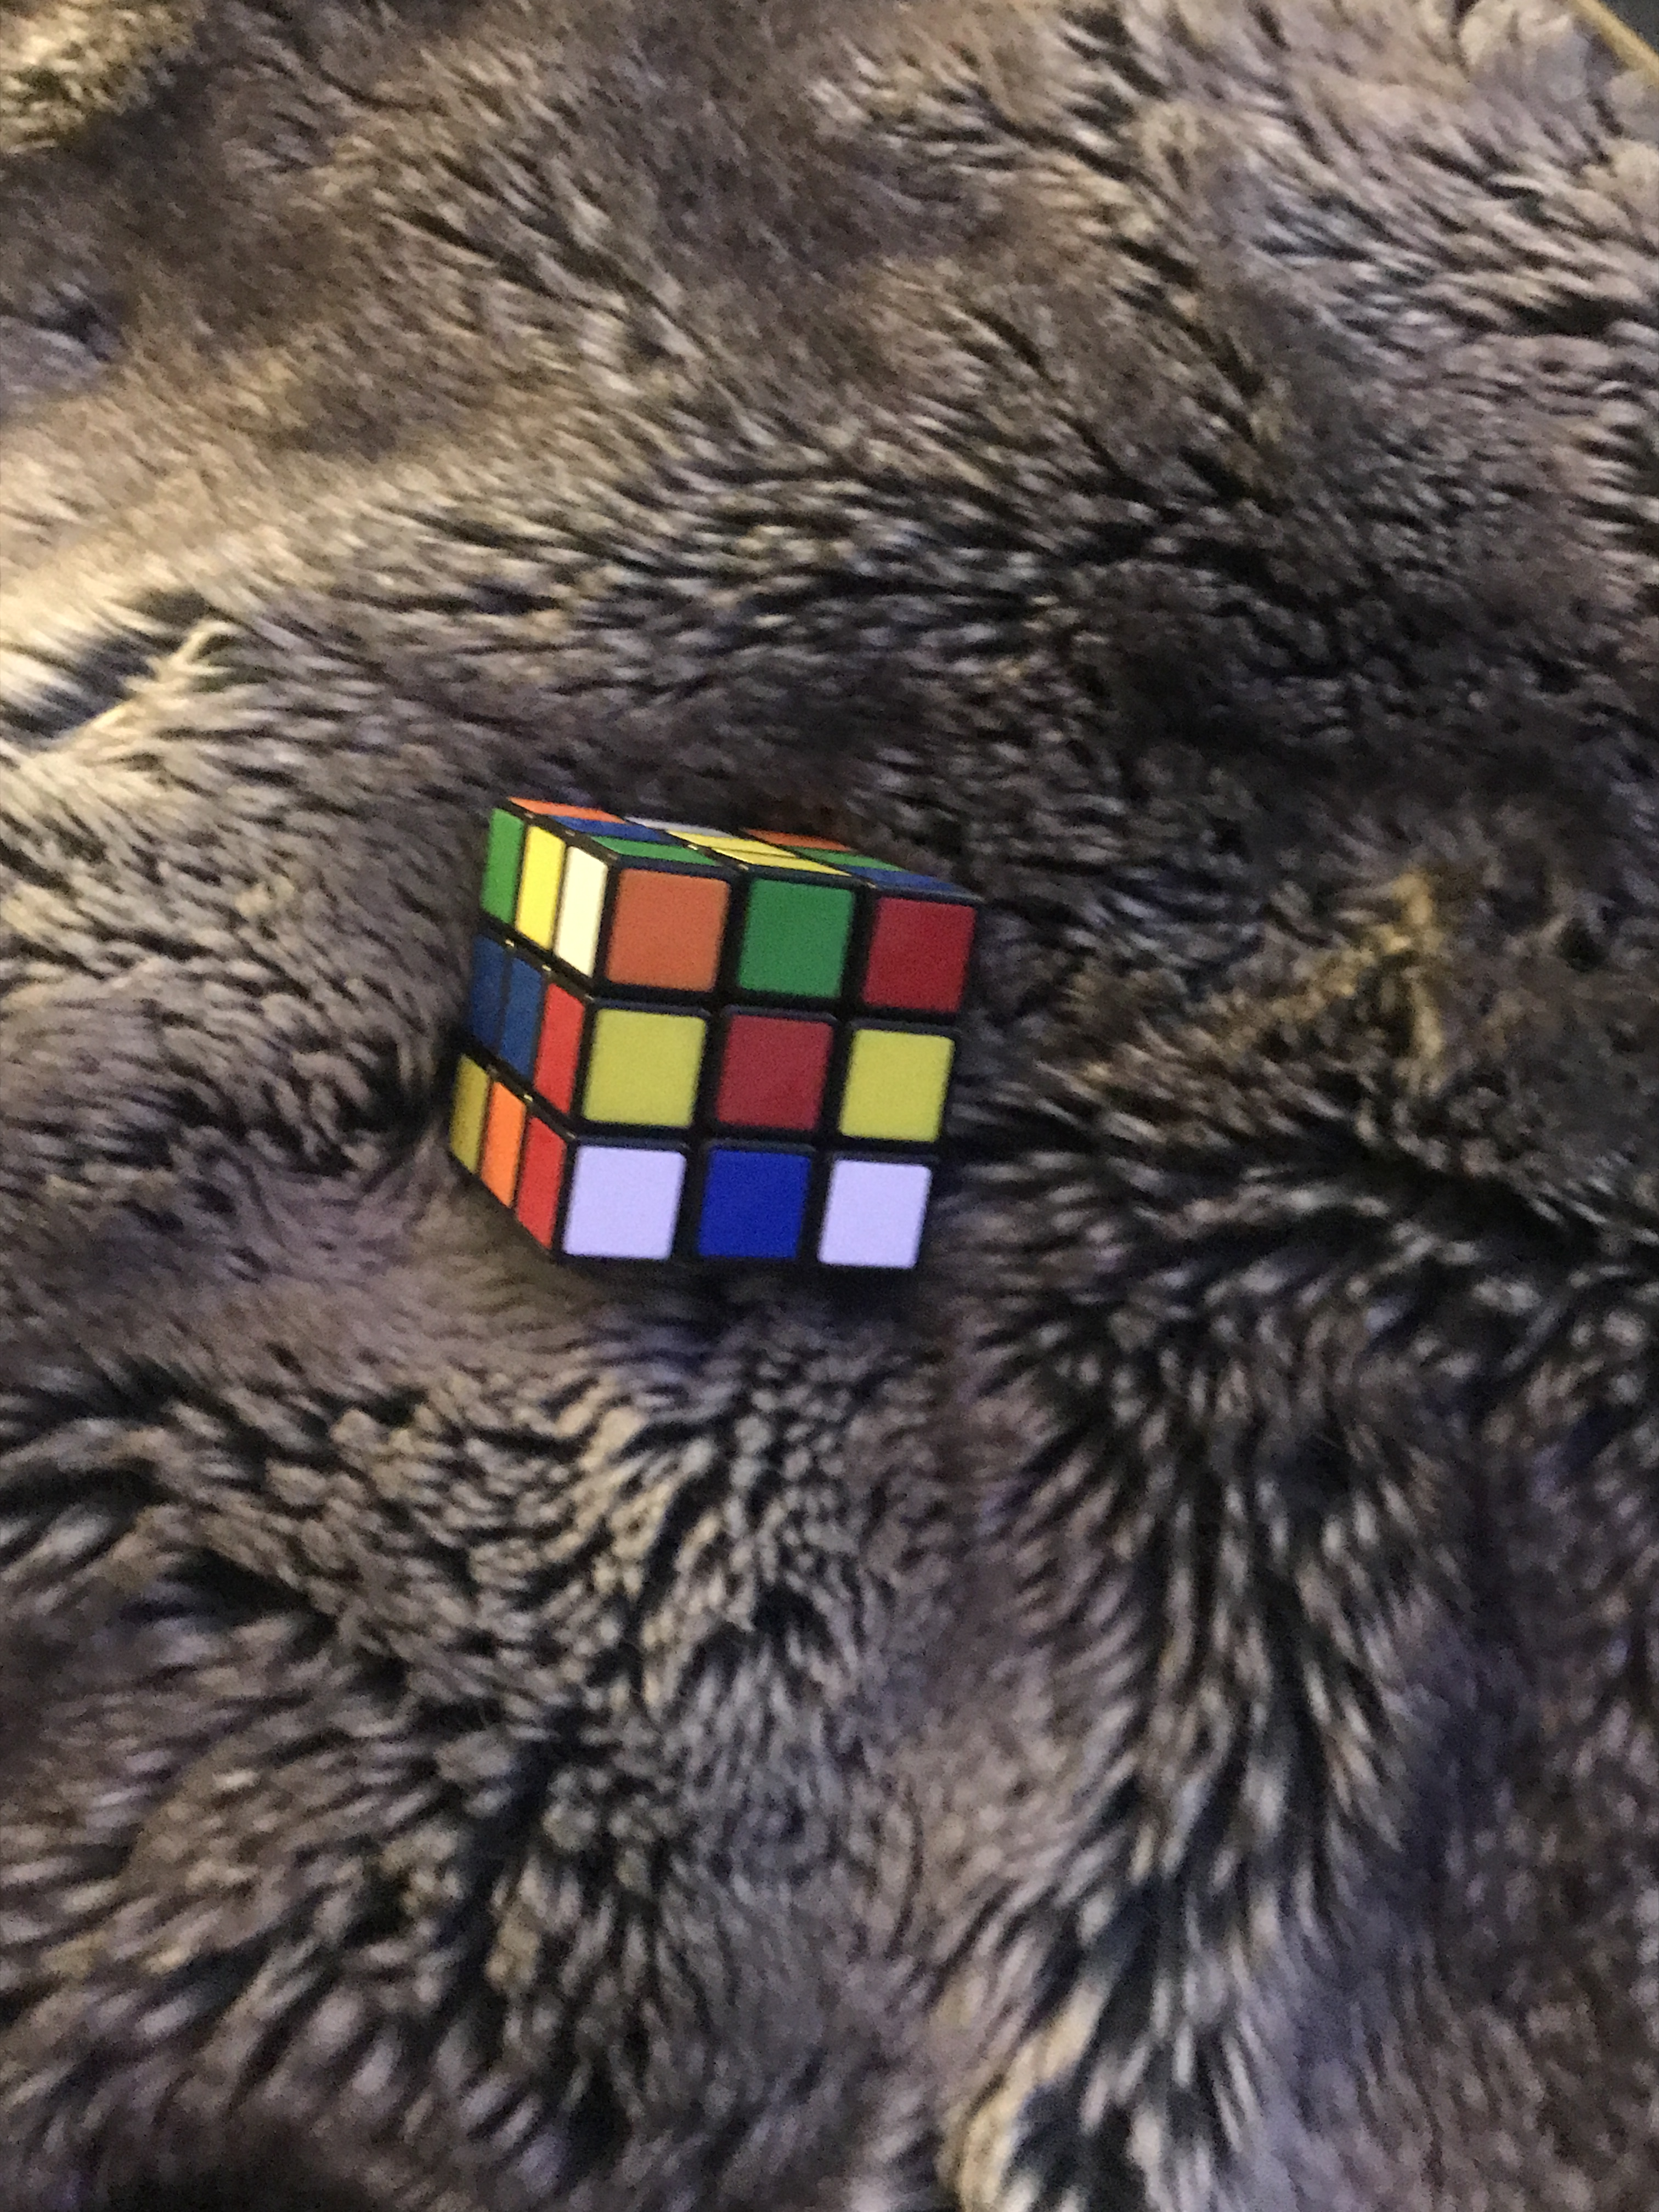rubiks: (430, 782, 978, 1308)
